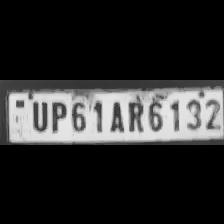1: (88, 99, 106, 134), (166, 96, 182, 132)
2: (202, 94, 222, 130)
3: (182, 96, 202, 132)
6: (144, 96, 164, 132), (68, 98, 88, 132)
A: (106, 99, 126, 134)
P: (47, 98, 67, 132)
R: (124, 97, 144, 133)
U: (27, 98, 49, 132)
